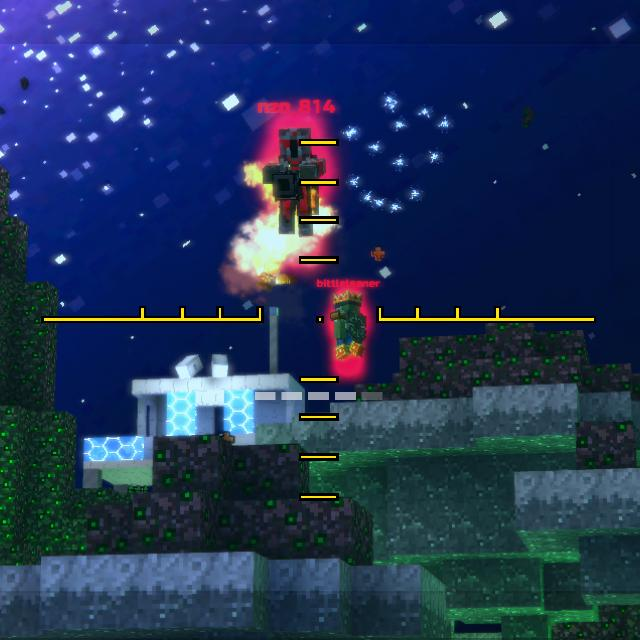Enemy: (262, 128, 326, 236), (330, 290, 367, 360)
